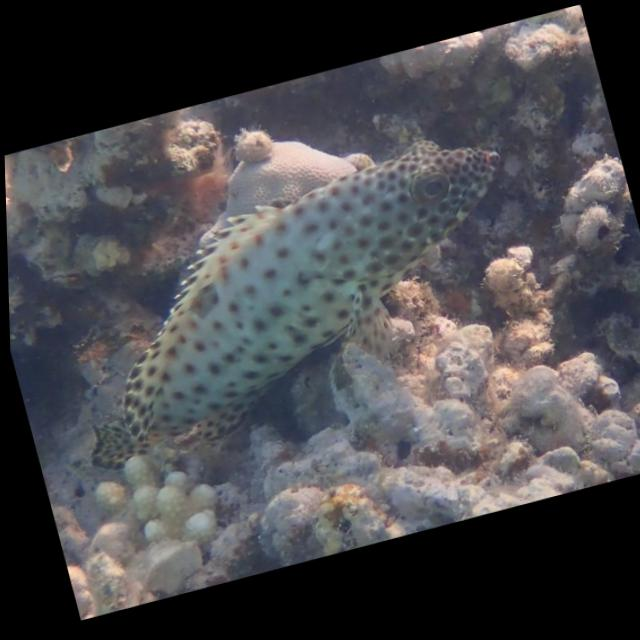Groupers: (27, 128, 552, 477)
